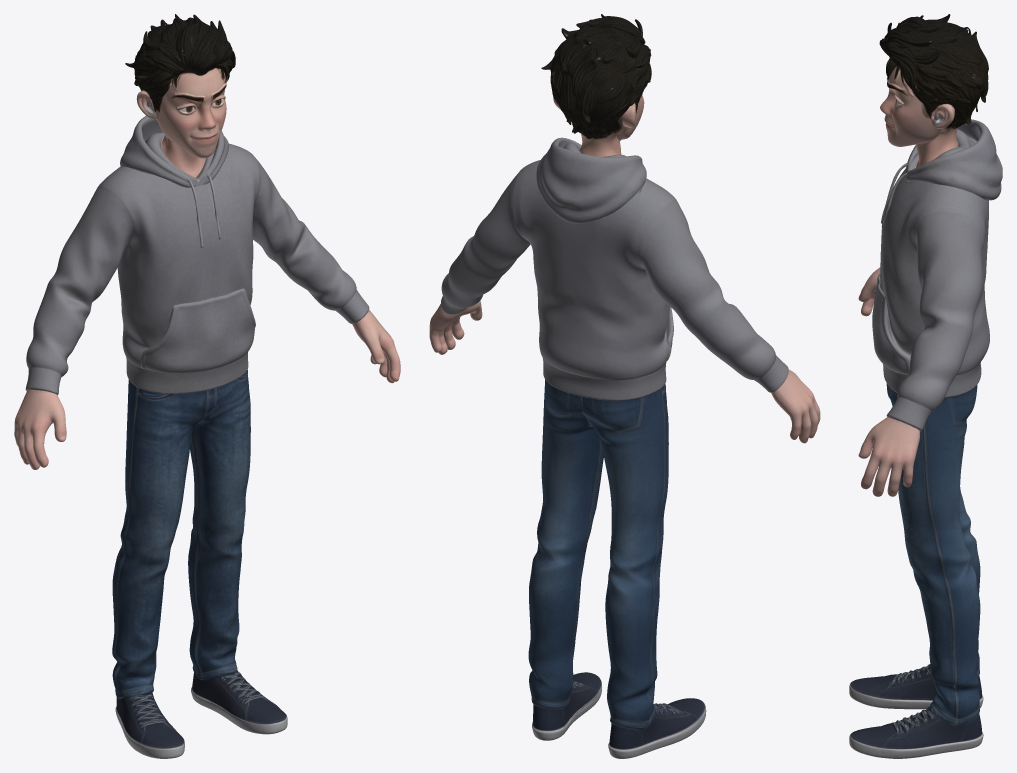
The model's file is cem_ham_meshopt.glb.
3 views of the same model, side by side, from view 1: azimuth 30°, elevation 25°; view 2: azimuth 150°, elevation 25°; view 3: azimuth 270°, elevation 25° (orthographic).
Size of the model in its own units: 1.05 by 1.9 by 0.3739.
Materials: 1 (1 with a texture image).
